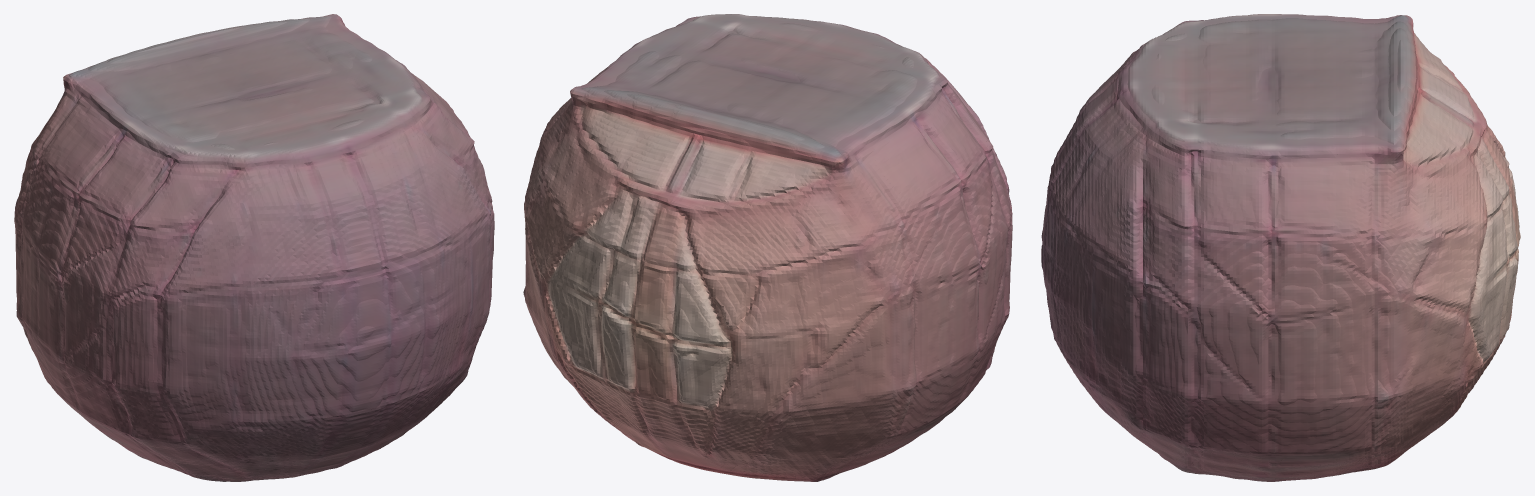
File: linterna.glb
3 renders of one model, left to right at view 1: azimuth 30°, elevation 25°; view 2: azimuth 150°, elevation 25°; view 3: azimuth 270°, elevation 25°, orthographic. The views are drawn at different scales.
Visible parts, largest first — view 1: geometry_0; view 2: geometry_0; view 3: geometry_0.
Part boxes in pixels (bbox=[...]): geometry_0: bbox=[14, 14, 494, 481]; geometry_0: bbox=[523, 14, 1012, 481]; geometry_0: bbox=[1041, 14, 1520, 481].
Size of the model in its own units: 1.01 by 0.8477 by 1.02.
